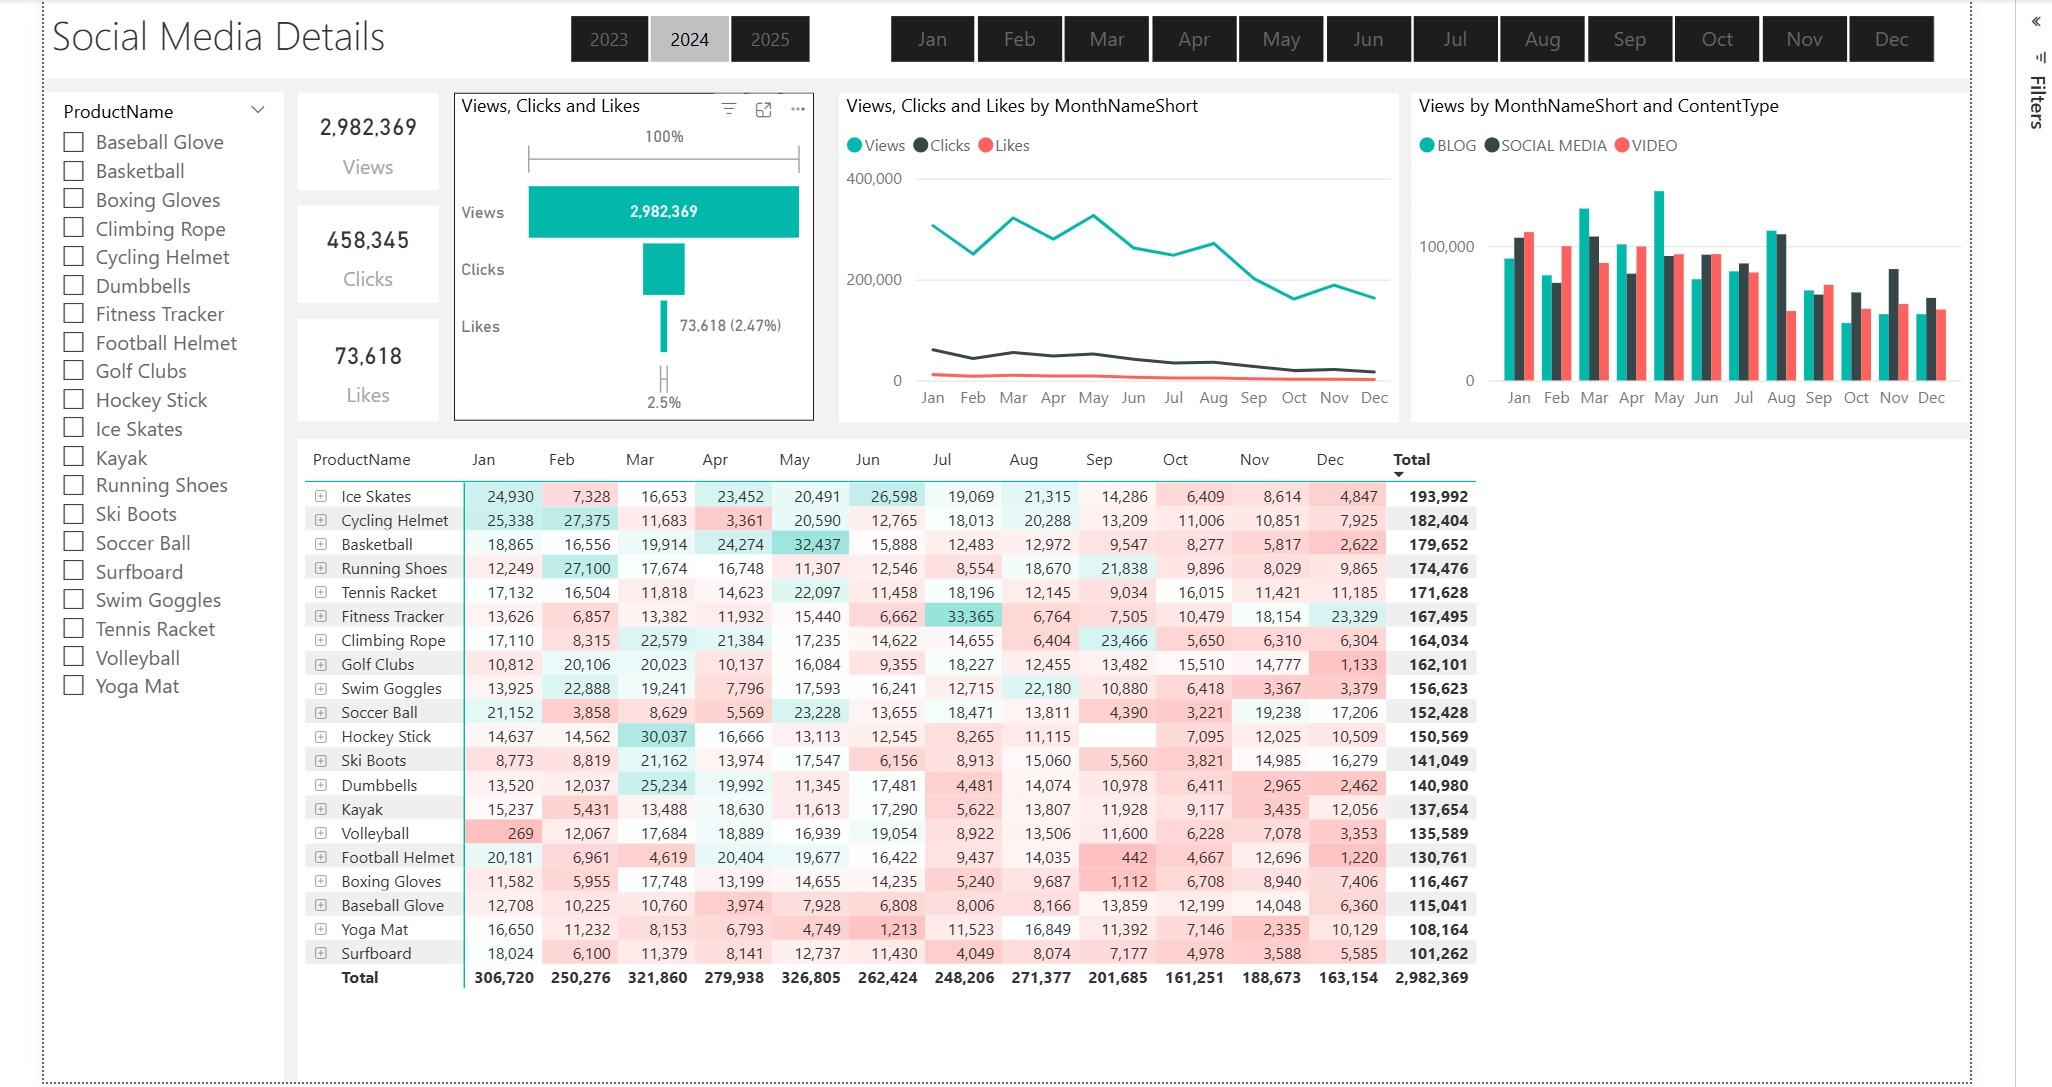

What the dashboard file says about the page in this screenshot:
{"tool":"powerbi","page":{"name":"Social Media Details","canvas":[1280,720],"ordinal":2},"visuals":[{"type":"textbox","box":[0,0,1280,52.6],"z":0},{"type":"slicer","fields":{"Values":["dim_products.ProductName"]},"box":[0,61.6,159.5,658.5],"z":1000},{"type":"lineChart","fields":{"Y":["_Calculations.Views","_Calculations.Clicks","_Calculations.Likes"],"Category":["Calendar.MonthNameShort"]},"box":[528.5,61.9,371.6,218.8],"z":2000},{"type":"funnel","fields":{"Y":["_Calculations.Views","_Calculations.Clicks","_Calculations.Likes"]},"box":[272.5,61.9,239.5,218.8],"z":3000},{"type":"card","fields":{"Values":["_Calculations.Views"]},"box":[168.3,61.9,93.9,65],"z":4000},{"type":"card","fields":{"Values":["_Calculations.Clicks"]},"box":[168.3,137.3,93.9,65],"z":5000},{"type":"card","fields":{"Values":["_Calculations.Likes"]},"box":[168.3,212.6,93.9,68.1],"z":6000},{"type":"slicer","fields":{"Values":["Calendar.MonthNameShort"]},"box":[536.8,4.1,743.2,44.4],"z":7000},{"type":"slicer","fields":{"Values":["Calendar.Year"]},"box":[324.1,4.1,208.5,44.4],"z":8000},{"type":"pivotTable","fields":{"Rows":["dim_products.ProductName","fact_engagement.ContentType"],"Values":["_Calculations.Views"],"Columns":["Calendar.MonthNameShort"]},"box":[168.3,292.1,1110.7,428.4],"z":9000},{"type":"clusteredColumnChart","fields":{"Category":["Calendar.MonthNameShort"],"Series":["fact_engagement.ContentType"],"Y":["_Calculations.Views"]},"box":[908.4,61.9,370.6,218.8],"z":10000}]}

Visuals, with their boxes on the page's 1280x720 design canvas (x1, y1, x2, y2). These are canvas units, not pixel positions in the 2052x1087 screenshot, which may show the page scaled, cropped or inside an application window:
textbox: BBox(0, 0, 1280, 53)
slicer - dim_products.ProductName: BBox(0, 62, 160, 720)
lineChart - _Calculations.Views x _Calculations.Clicks: BBox(528, 62, 900, 281)
funnel - _Calculations.Views x _Calculations.Clicks: BBox(272, 62, 512, 281)
card - _Calculations.Views: BBox(168, 62, 262, 127)
card - _Calculations.Clicks: BBox(168, 137, 262, 202)
card - _Calculations.Likes: BBox(168, 213, 262, 281)
slicer - Calendar.MonthNameShort: BBox(537, 4, 1280, 48)
slicer - Calendar.Year: BBox(324, 4, 533, 48)
pivotTable - dim_products.ProductName x fact_engagement.ContentType: BBox(168, 292, 1279, 720)
clusteredColumnChart - Calendar.MonthNameShort x fact_engagement.ContentType: BBox(908, 62, 1279, 281)
